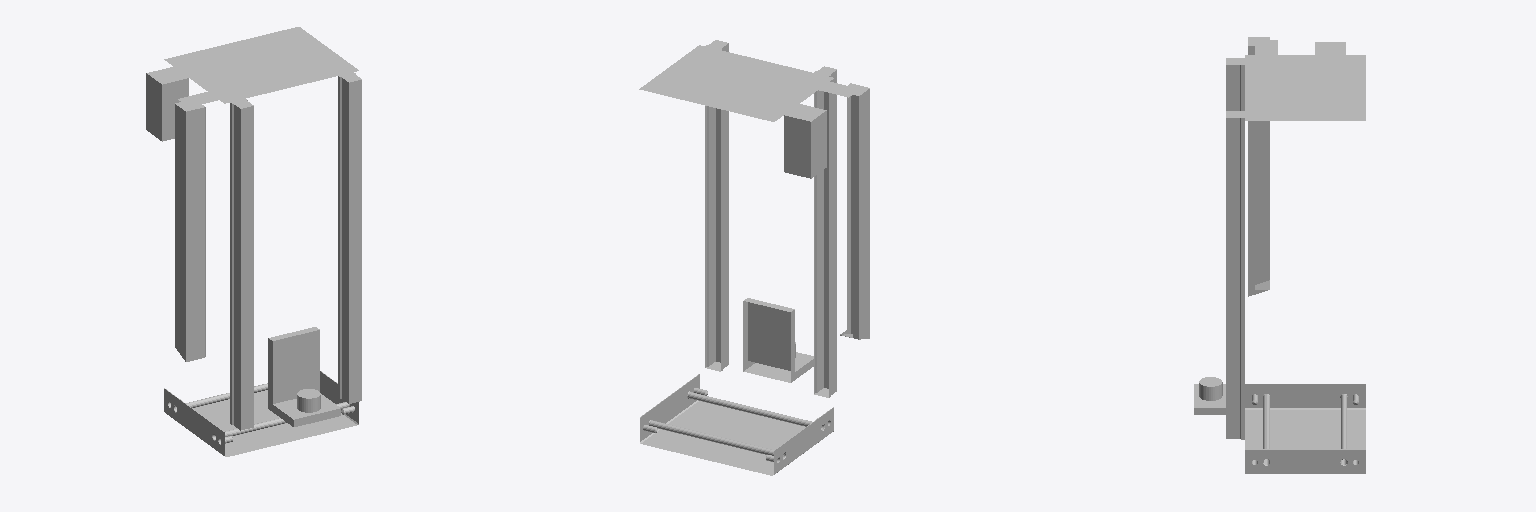
Rendered from a3_cut_0__1_1.obj.
3 renders of one model, left to right at view 1: azimuth 30°, elevation 25°; view 2: azimuth 150°, elevation 25°; view 3: azimuth 270°, elevation 25°, orthographic.
Visible parts, largest first — view 1: 0; view 2: 0; view 3: 0.
Part boxes in pixels (x1,y1,x2,y2): 0: (146,27,361,456); 0: (639,40,869,475); 0: (1194,37,1365,473).
Bounding box in the file's own units: 254 × 500 × 220.